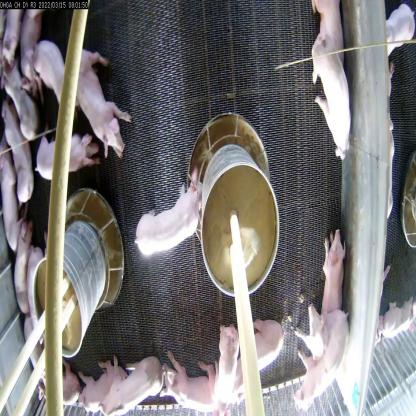Pig: (123, 169, 206, 276), (296, 296, 355, 415), (70, 34, 118, 172), (30, 107, 99, 190), (96, 348, 172, 415), (240, 294, 298, 380), (314, 40, 355, 158), (21, 16, 65, 102), (319, 221, 353, 331), (0, 90, 31, 198), (216, 320, 250, 416), (20, 238, 52, 338), (165, 371, 234, 415)
